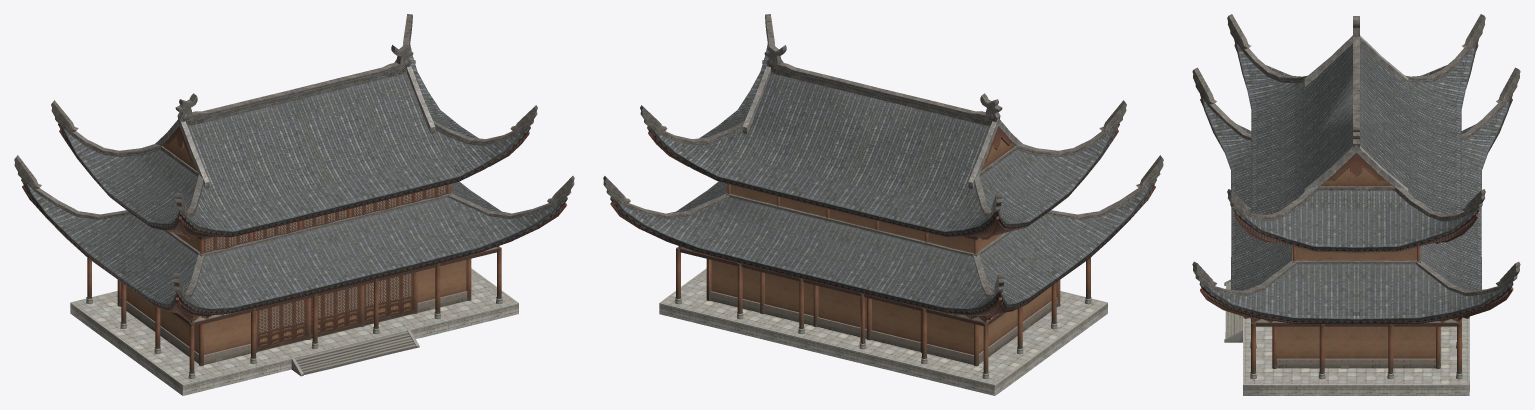
The model's file is qh_temple.0dc3537944.glb.
3 views of the same model, side by side, from view 1: azimuth 30°, elevation 25°; view 2: azimuth 150°, elevation 25°; view 3: azimuth 270°, elevation 25° (orthographic).
Parts seen in each view (by area): view 1: toit (×2); view 2: toit (×2); view 3: toit (×2).
Part boxes in pixels (box(x1,y1,x2,y2)): toit (×2): box(14, 14, 574, 395); toit (×2): box(603, 14, 1163, 395); toit (×2): box(1192, 14, 1520, 395).
Size of the model in its own units: 1 by 0.5804 by 0.704.
2 materials, 2 textured.
